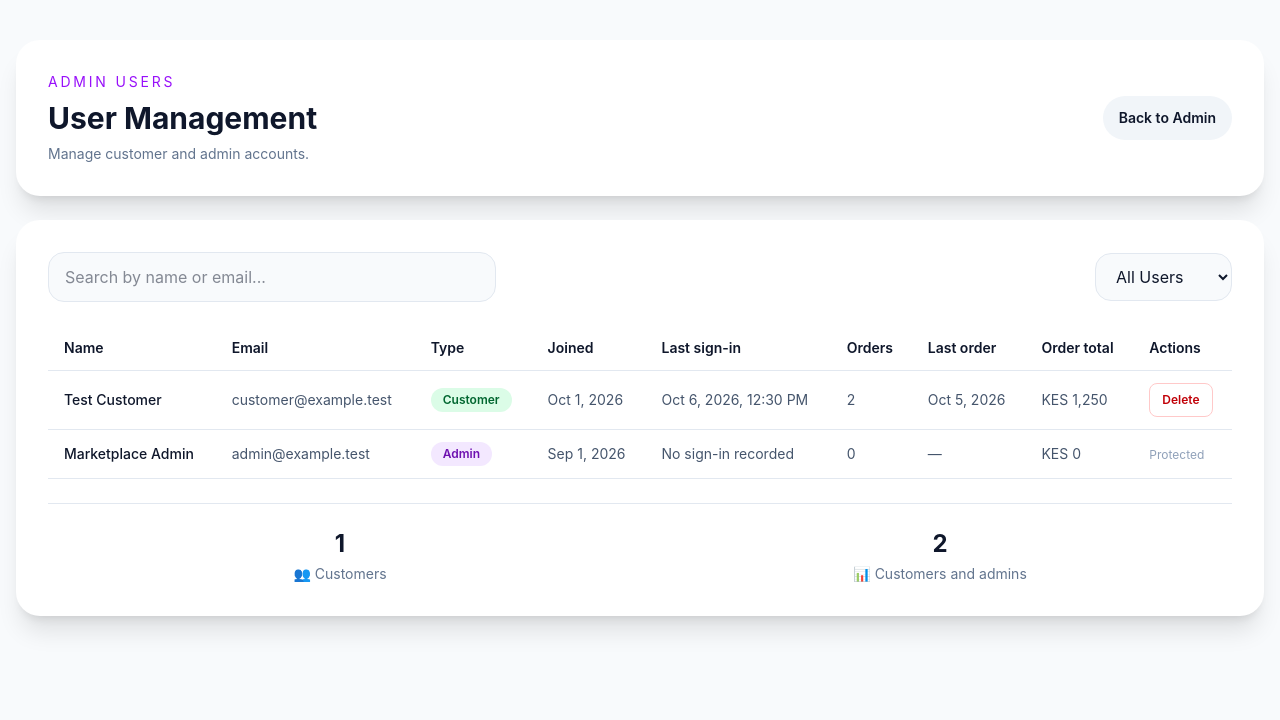
AdminUsersPage › permanently deletes a customer only after explicit confirmation
What coordinates should you click on to do the following:
click the button with aria-label "Delete Test Customer"
I would click on:
 (1181, 400)
Its box is x1=1149 y1=383 x2=1212 y2=417.
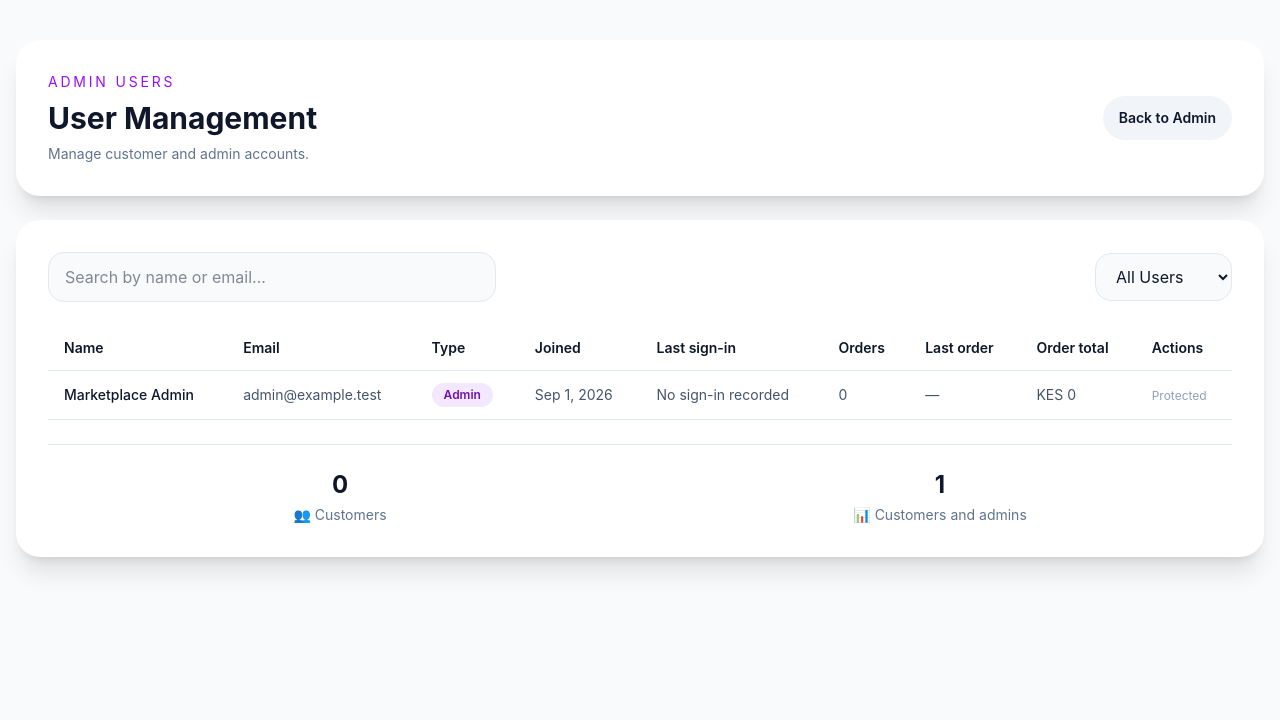
Expected: the text "customer@example.test" is gone
